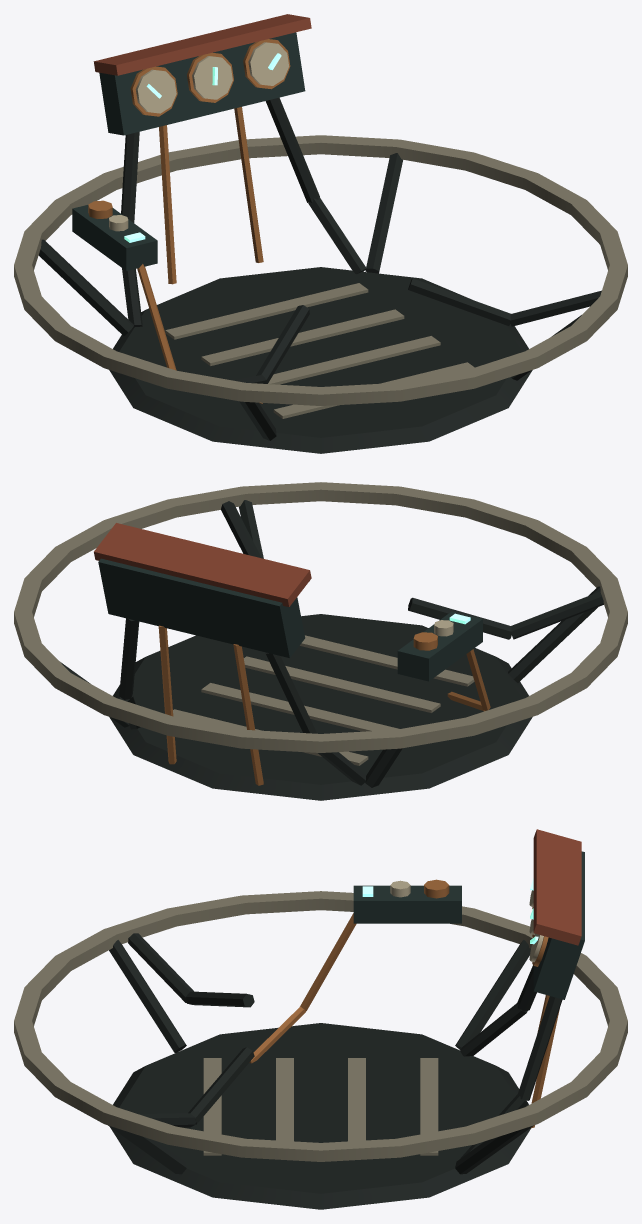
The model's file is ball_look_cutaway_cockpit.glb.
The picture shows the model from 3 angles, top to bottom: view 1: azimuth 30°, elevation 25°; view 2: azimuth 150°, elevation 25°; view 3: azimuth 270°, elevation 25°; orthographic projection.
Parts seen in each view (by area): view 1: Cockpit; view 2: Cockpit; view 3: Cockpit.
Part boxes in pixels (left/top/right/bottom): Cockpit: left=14, top=14, right=627, bottom=453; Cockpit: left=14, top=482, right=627, bottom=800; Cockpit: left=14, top=829, right=627, bottom=1209.
Size of the model in its own units: 1.7 by 0.7385 by 1.7.
